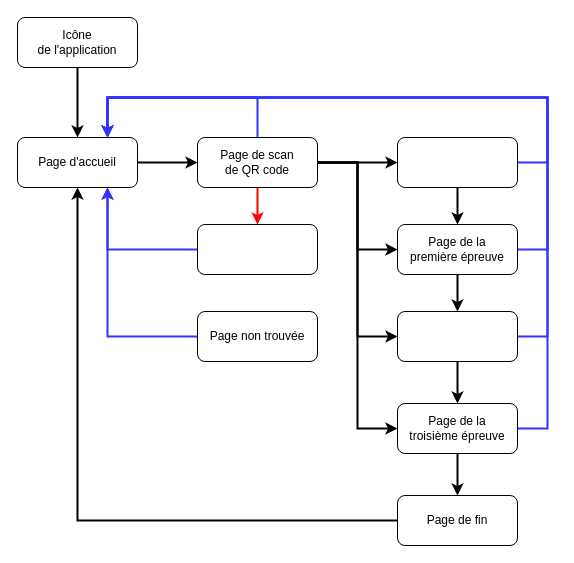
Image size: 574x563. Some labels were removed from this diagram. Each missing label, with the centre of its shape:
Page d'accès refusé: the point at 257,249
Page d'introduction: the point at 457,162
Page de la deuxième épreuve: the point at 457,336
